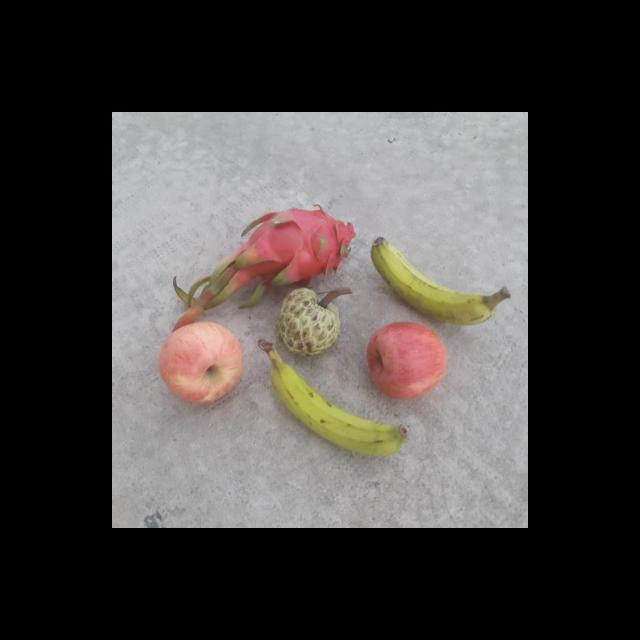Sakya fruit: (276, 286, 354, 358)
apple: (158, 322, 246, 407), (366, 322, 450, 401)
banana: (256, 341, 414, 458), (368, 236, 512, 325)
pitaya: (244, 200, 360, 293)
